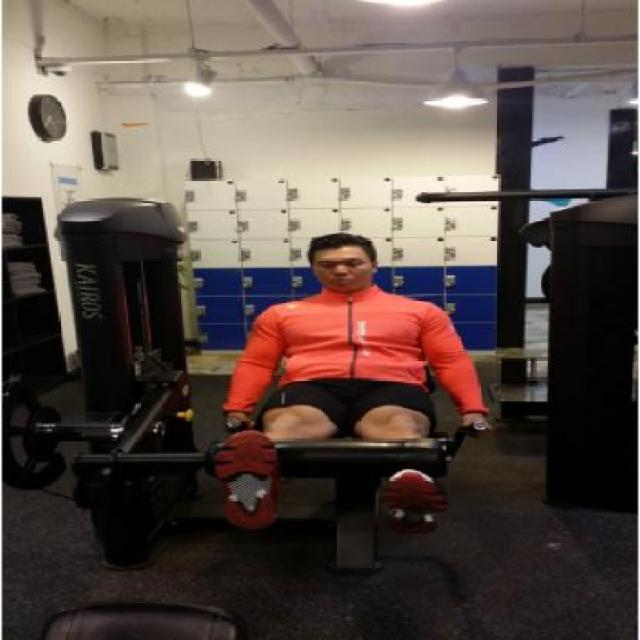leg extension: (0, 177, 542, 578)
